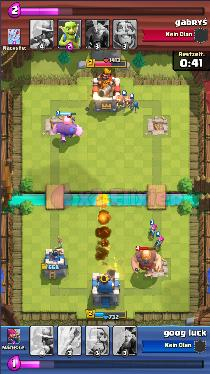ally_archer: (155, 236, 165, 248), (149, 225, 157, 237)
ally_fireball: (95, 194, 108, 208)
ally_giant: (51, 118, 83, 141)
ally_wallbreaker: (125, 95, 139, 112), (116, 95, 127, 109)
enemy_giant: (130, 249, 162, 276)
enemy_mini_pekka: (63, 114, 76, 124)
